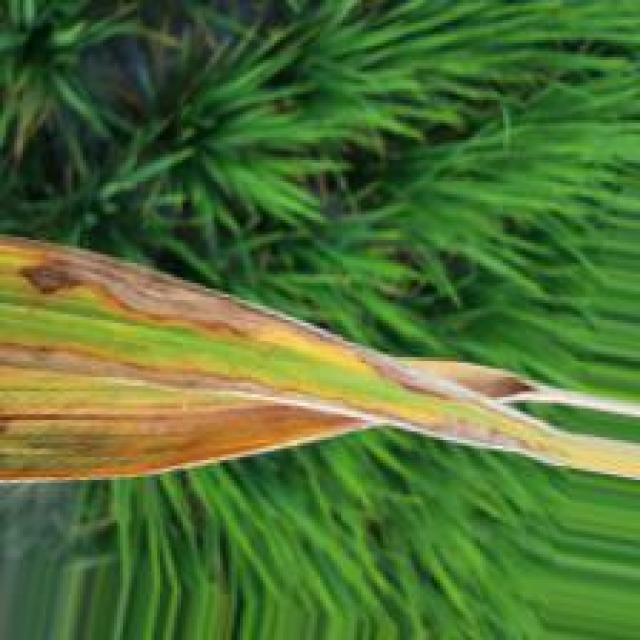Bacterial_Leaf_Blight: (0, 236, 640, 488)
